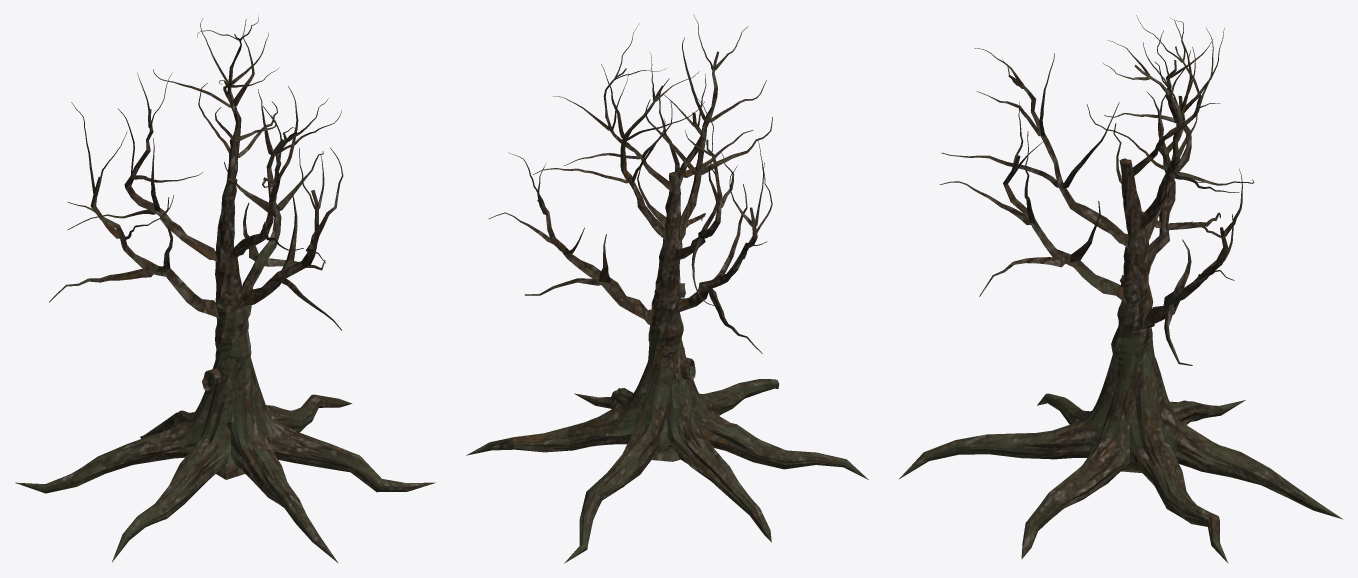
File: Tree_01.fbx
3 renders of one model, left to right at view 1: azimuth 30°, elevation 25°; view 2: azimuth 150°, elevation 25°; view 3: azimuth 270°, elevation 25°, orthographic. The views are drawn at different scales.
Visible parts, largest first — view 1: Tree_01; view 2: Tree_01; view 3: Tree_01.
Part boxes in pixels (box(x1,y1,x2,y2)): Tree_01: box(15, 14, 435, 563); Tree_01: box(466, 14, 868, 563); Tree_01: box(899, 15, 1342, 563).
Bounding box in the file's own units: 773 × 1091 × 855.
Materials: 1 (1 with a texture image).
